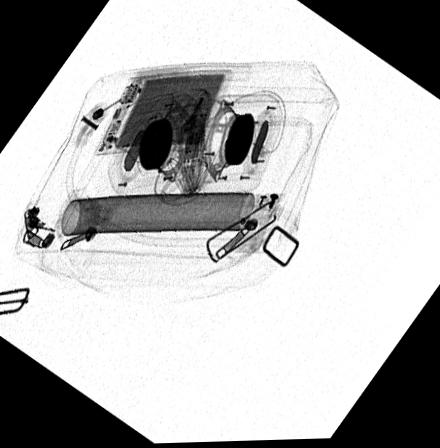Powerbank: (92, 69, 237, 154)
